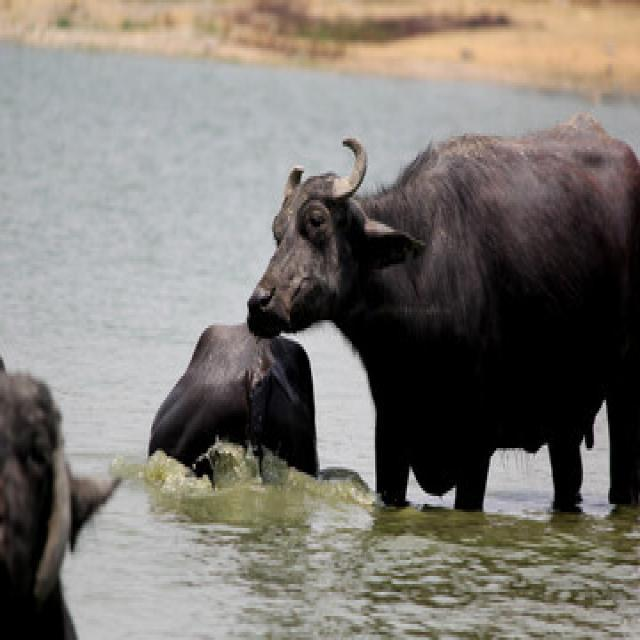Buffalo: (245, 112, 640, 499)
